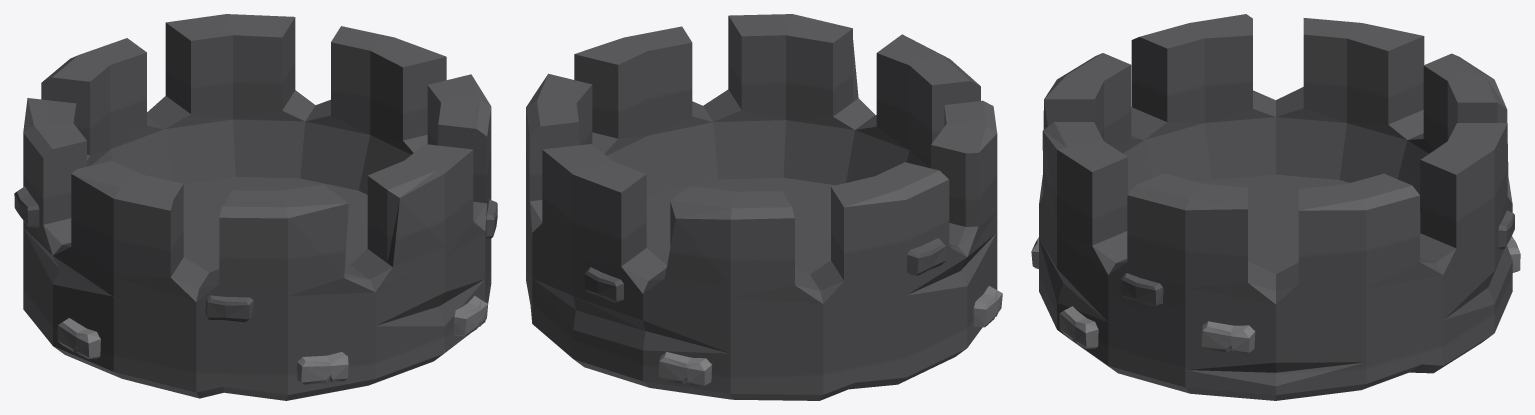
The model's file is SM_Bld_Castle_Tower_Round_Top_01.gltf.
The picture shows the model from 3 angles, left to right: view 1: azimuth 30°, elevation 25°; view 2: azimuth 150°, elevation 25°; view 3: azimuth 270°, elevation 25°; orthographic projection.
Visible parts, largest first — view 1: SM_Bld_Castle_Tower_Round_Top_01; view 2: SM_Bld_Castle_Tower_Round_Top_01; view 3: SM_Bld_Castle_Tower_Round_Top_01.
Boxes of the visible parts, x1=… form: SM_Bld_Castle_Tower_Round_Top_01: x1=14, y1=14, x2=497, y2=400; SM_Bld_Castle_Tower_Round_Top_01: x1=526, y1=14, x2=1002, y2=400; SM_Bld_Castle_Tower_Round_Top_01: x1=1031, y1=14, x2=1520, y2=400.
Size of the model in its own units: 3.35 by 1.47 by 3.35.
Materials: 1 (1 with a texture image).
